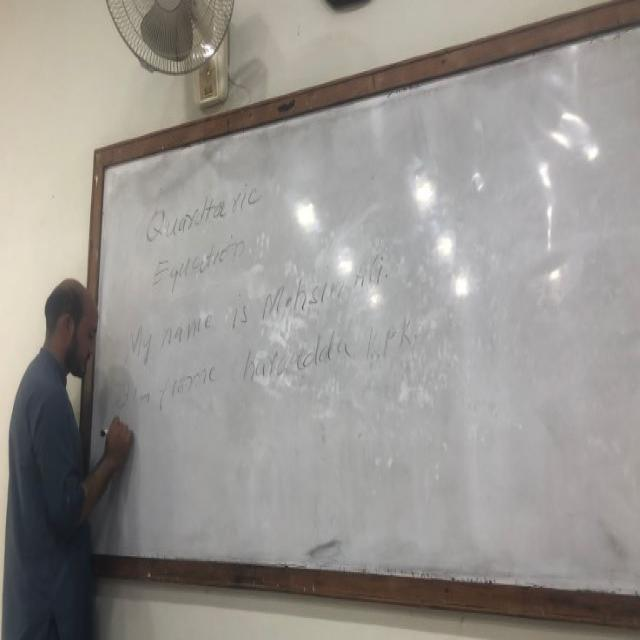Instructor: (18, 278, 99, 640)
White-board: (72, 17, 640, 611)
